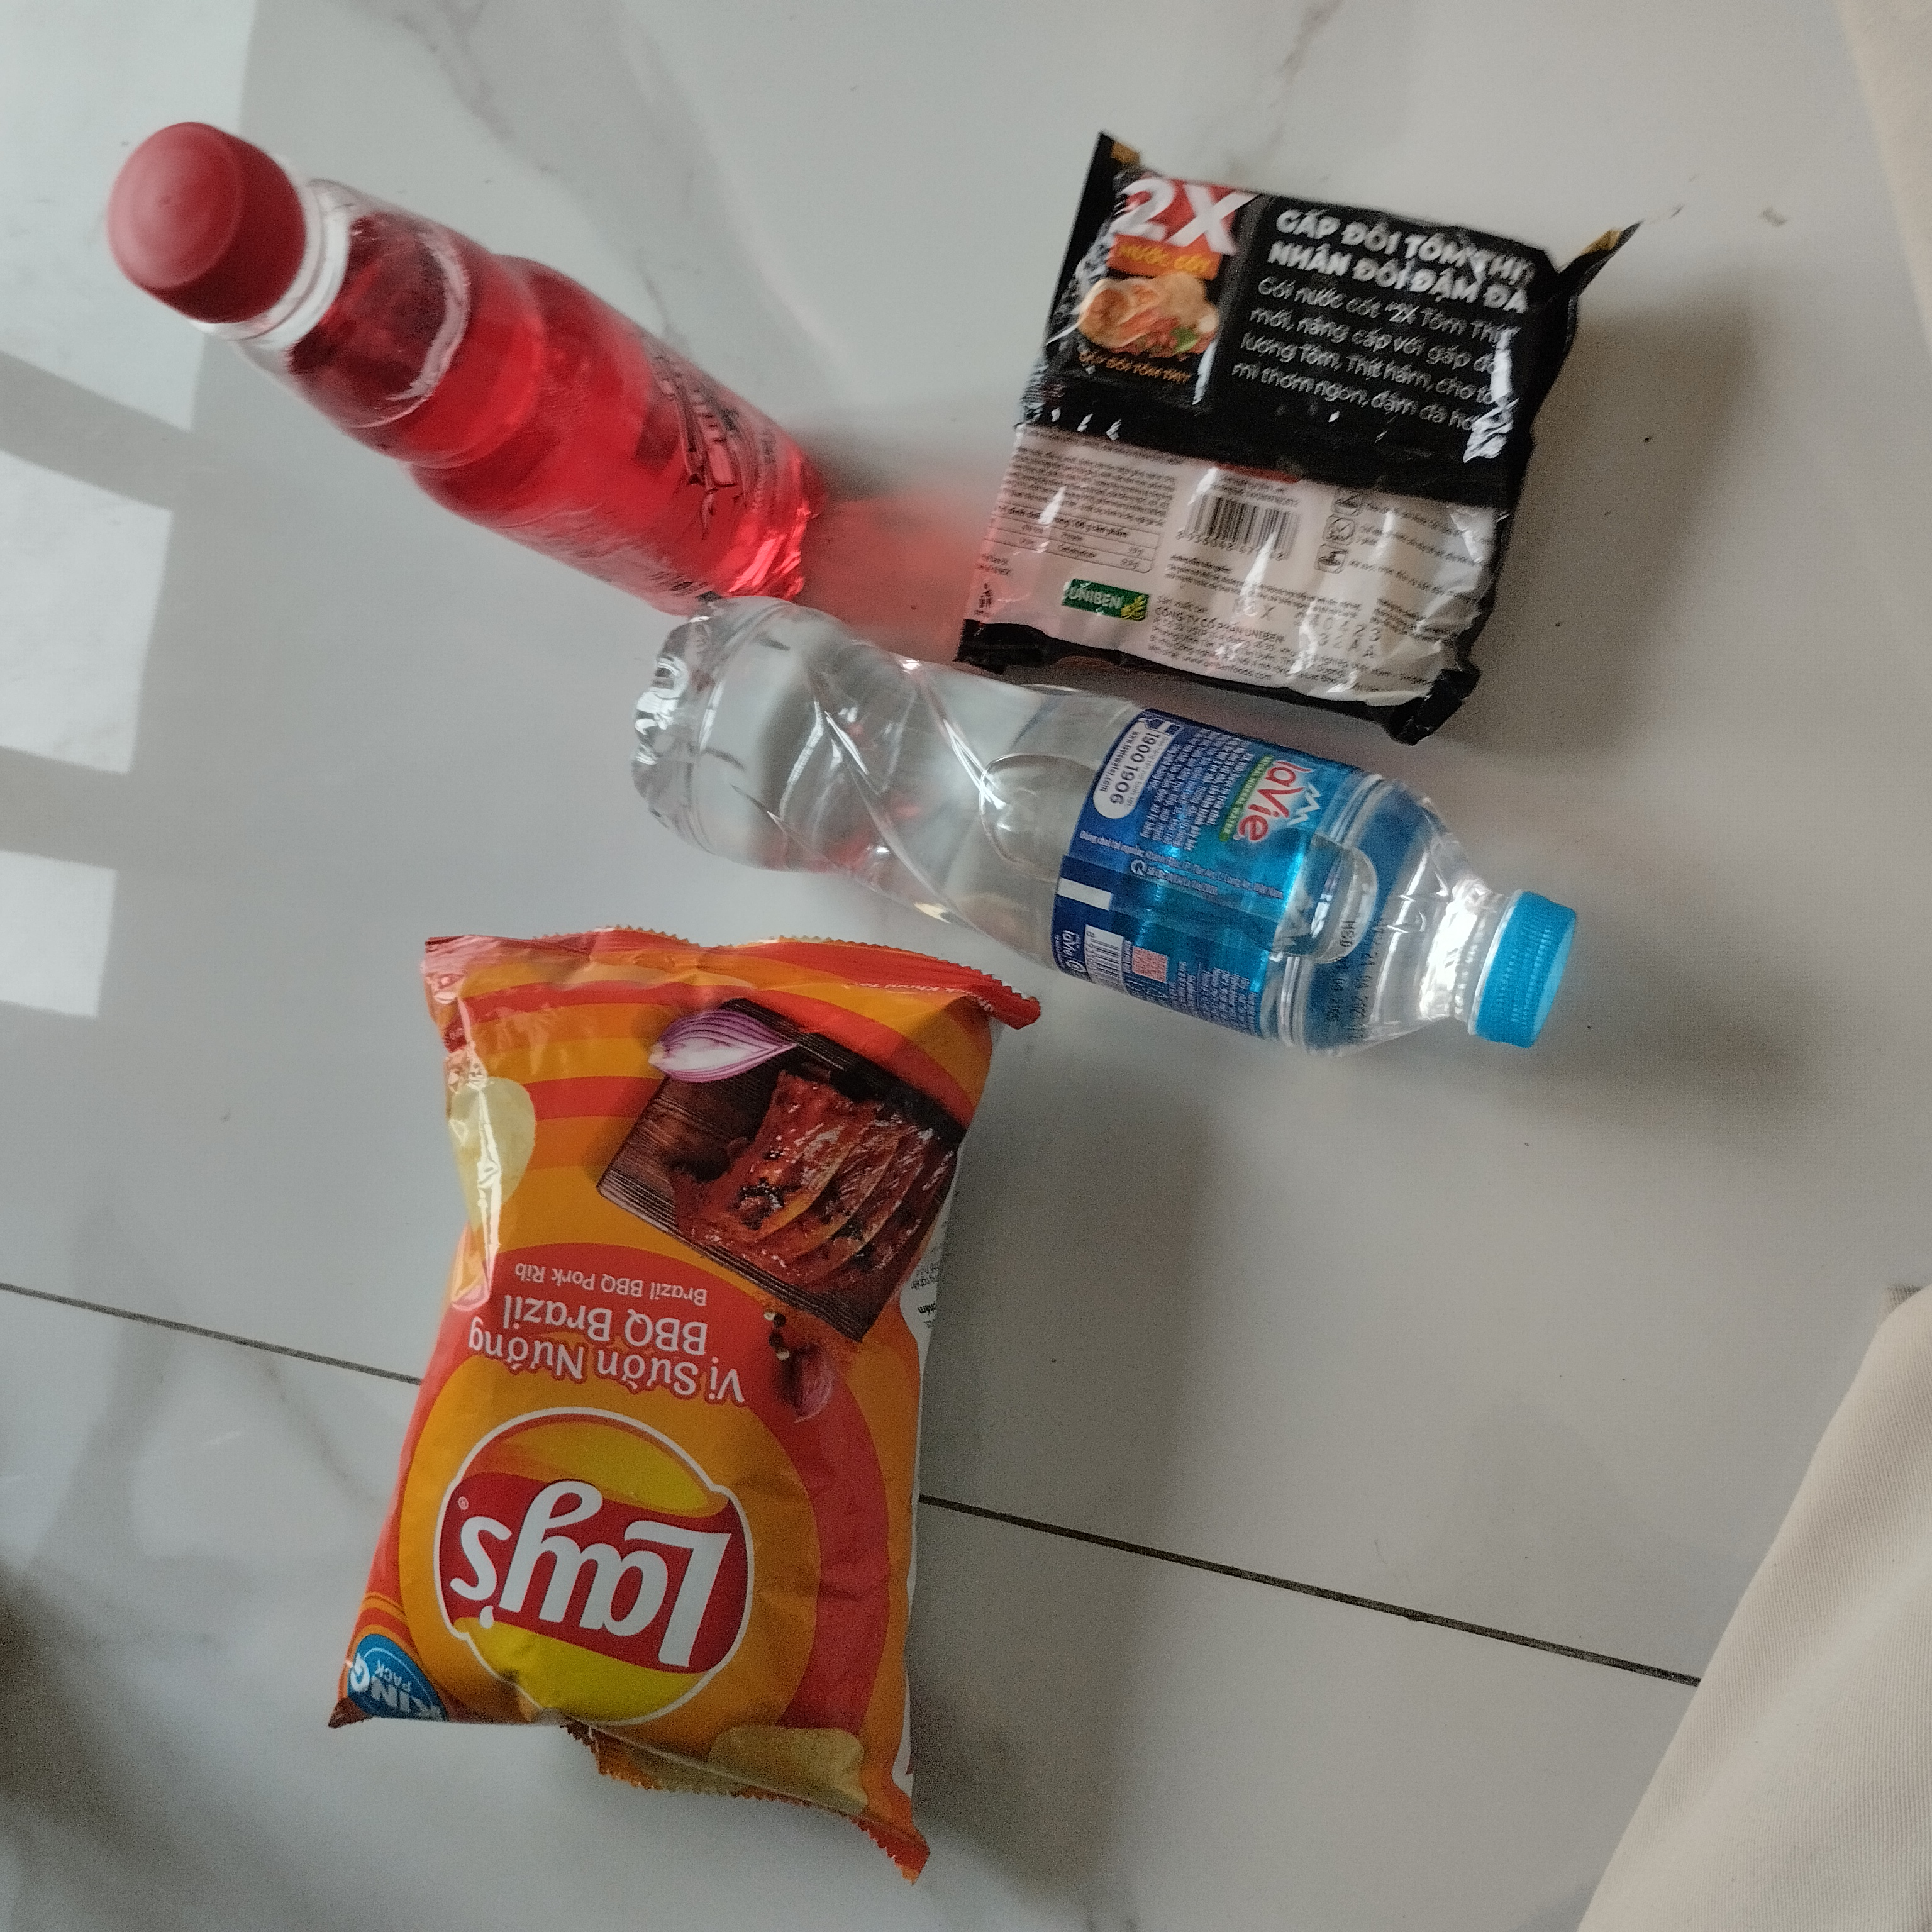3mien: (936, 122, 1651, 759)
Lavie: (603, 582, 1612, 1086)
Lays: (295, 920, 1054, 1913)
Sting: (94, 122, 837, 630)
